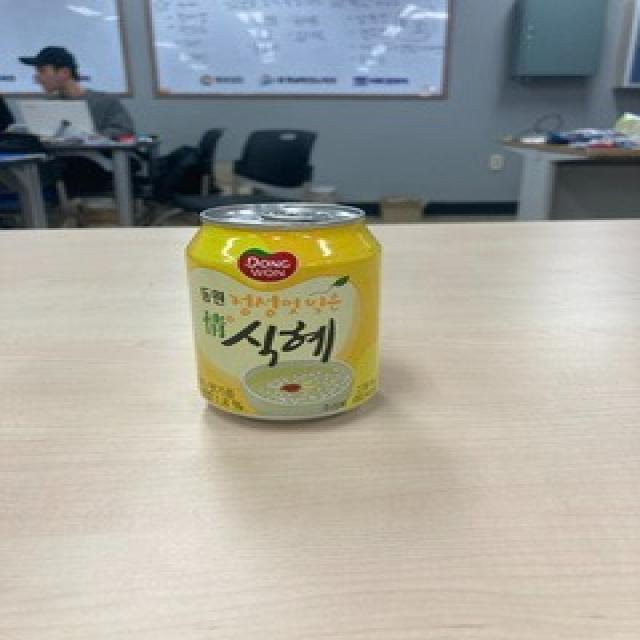can: (179, 195, 392, 429)
